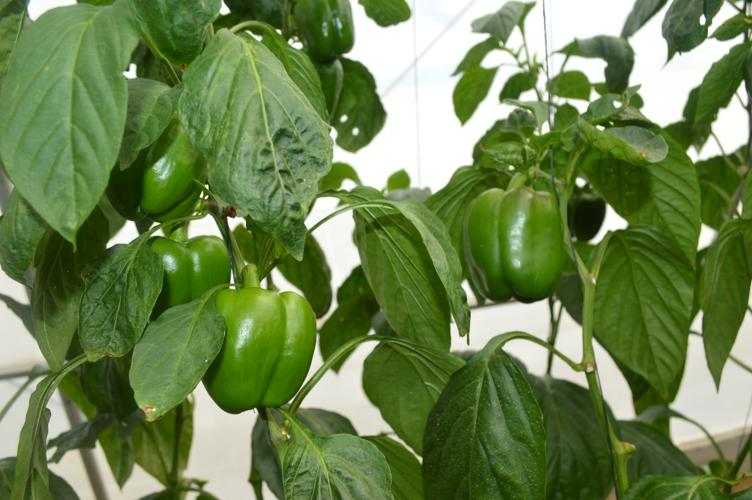BellPepper: (189, 287, 311, 407), (458, 185, 560, 304), (101, 116, 201, 222), (144, 232, 228, 303), (288, 1, 355, 58), (563, 190, 608, 241)
